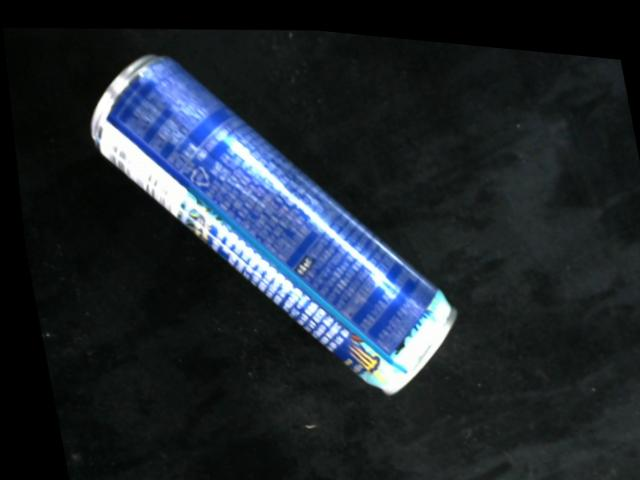can: (84, 47, 454, 390)
